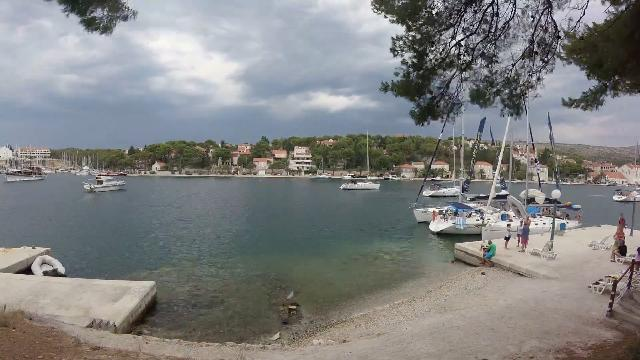Freighter: (1, 164, 51, 186)
Sailboat: (335, 172, 385, 194)
ferry: (78, 170, 134, 192)
